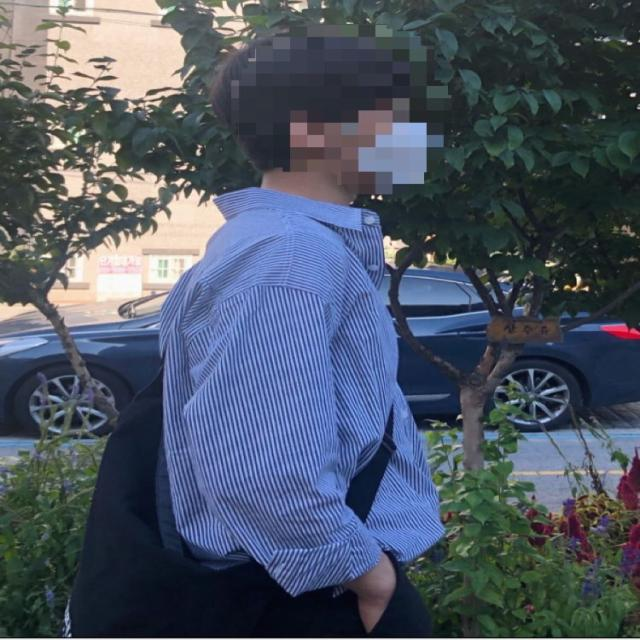shirt: (159, 189, 443, 595)
